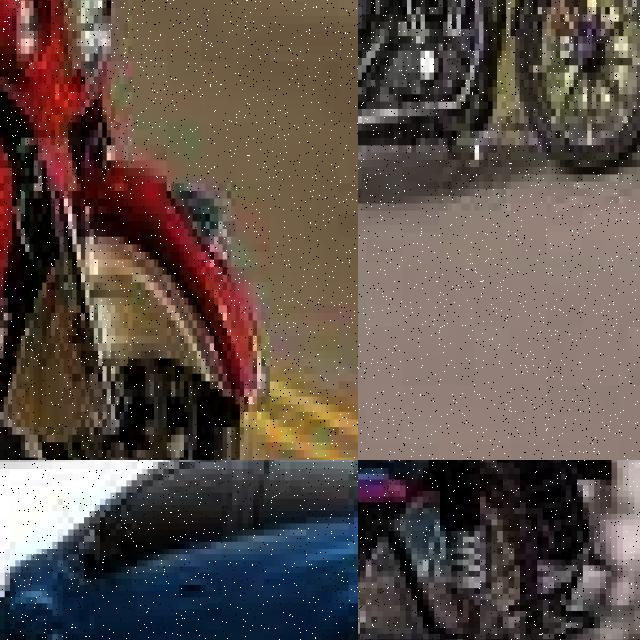bike: (0, 0, 278, 460), (358, 0, 640, 232), (358, 460, 640, 640)
car: (0, 460, 358, 640)
